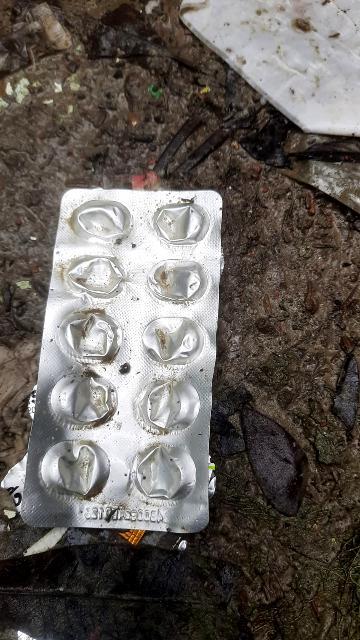medicine: (8, 159, 240, 545)
